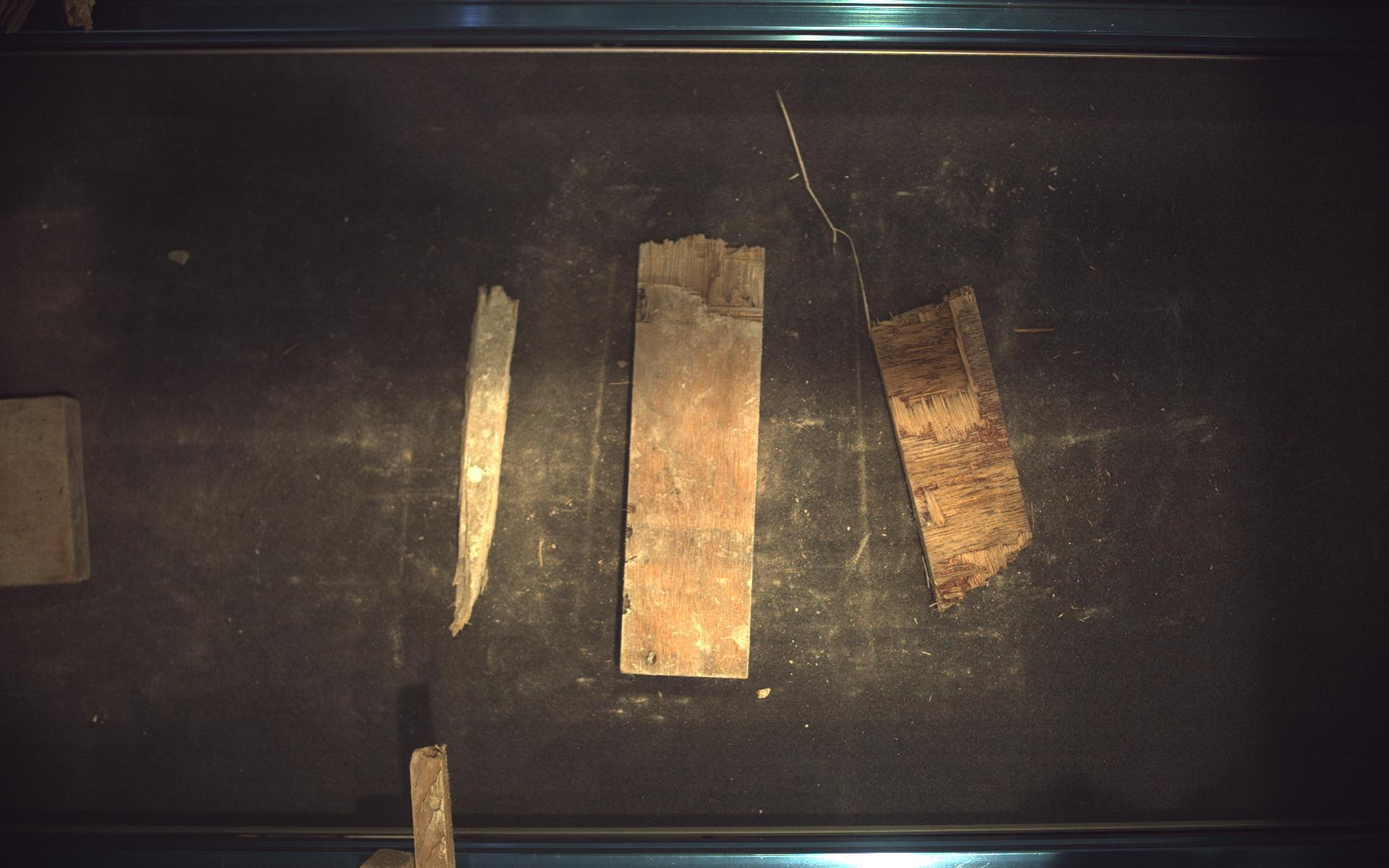wood: (621, 234, 766, 680), (872, 286, 1035, 611), (449, 285, 519, 637)
